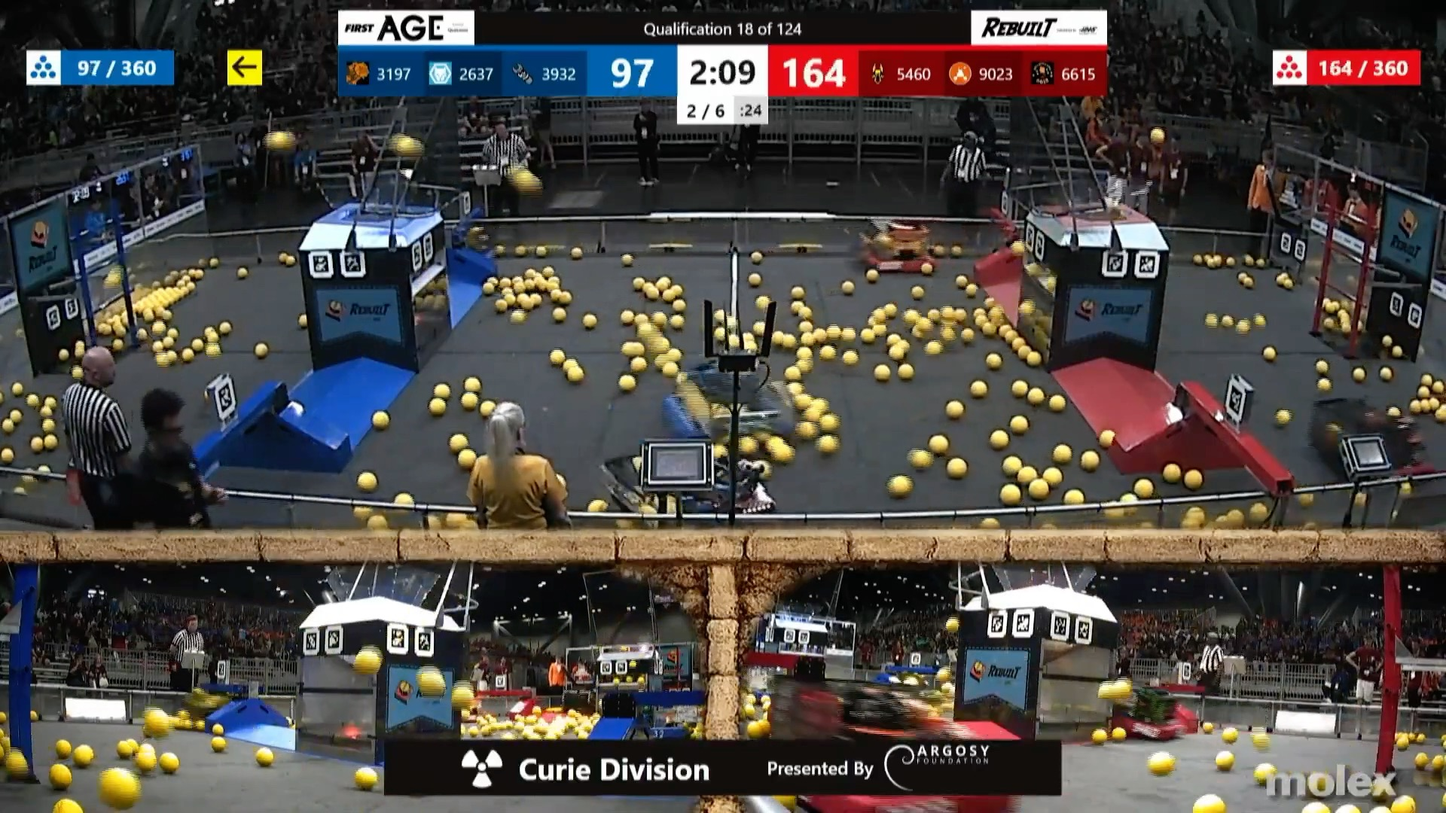bumpers: (661, 384, 797, 458), (606, 465, 781, 516), (1315, 434, 1438, 480), (1103, 700, 1203, 744), (854, 248, 936, 276)
